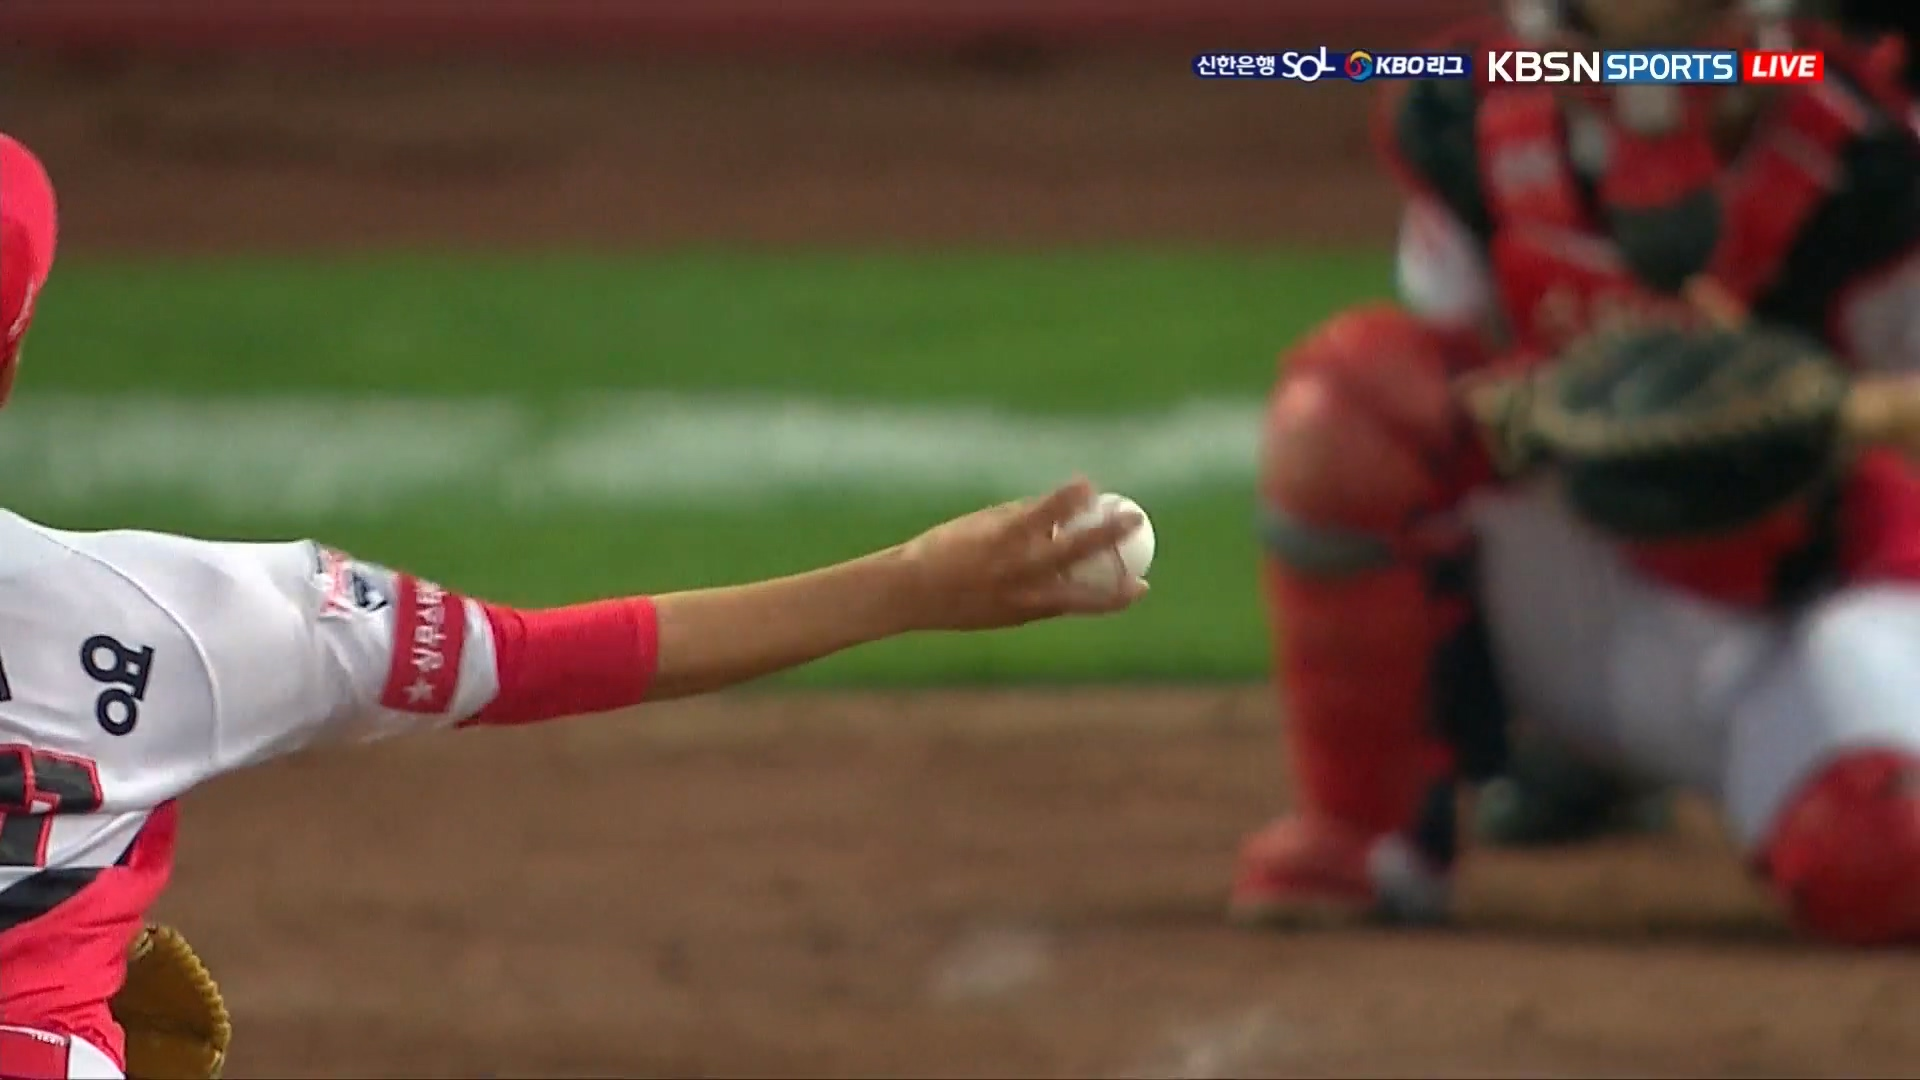zoomin_hand: (455, 469, 1168, 738)
